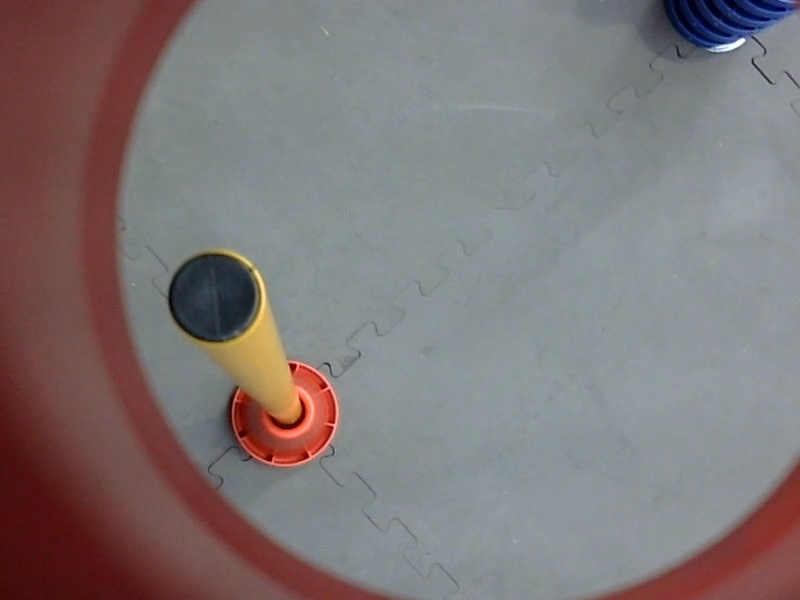tip: (160, 238, 275, 349)
